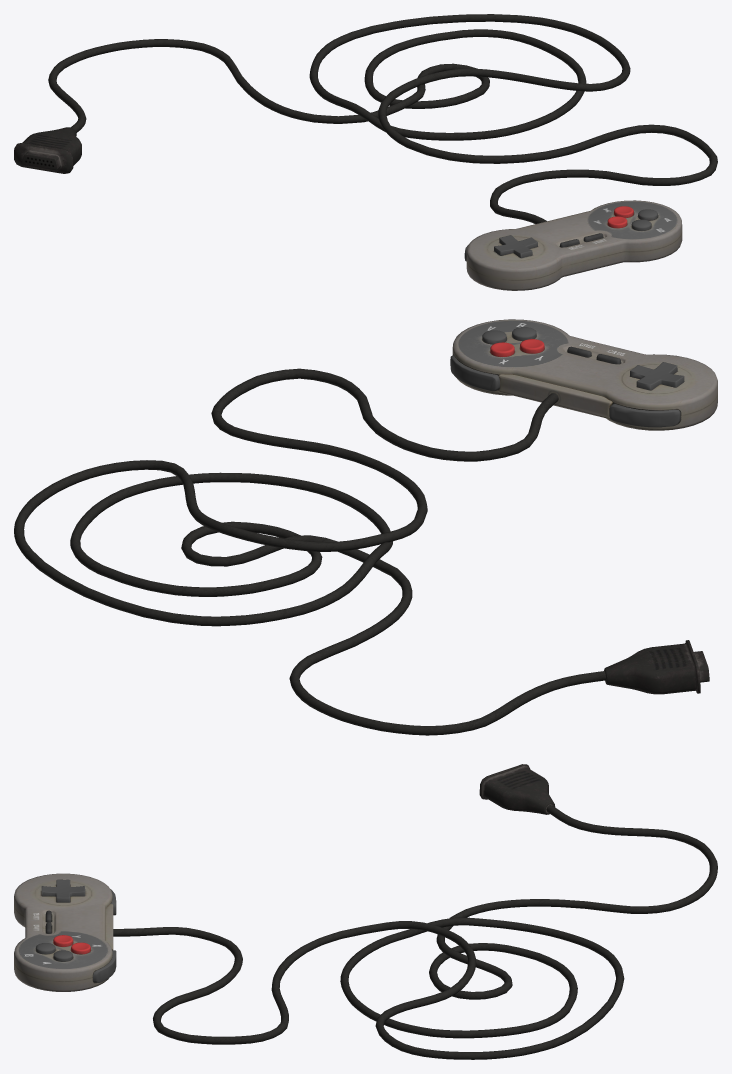
Rendered from gamepad.glb.
3 views of the same model, one above another, from view 1: azimuth 30°, elevation 25°; view 2: azimuth 150°, elevation 25°; view 3: azimuth 270°, elevation 25° (orthographic). The views are drawn at different scales.
Visible parts, largest first — view 1: gamepad__part__gamepad; view 2: gamepad__part__gamepad; view 3: gamepad__part__gamepad.
Boxes of the visible parts, <box> form: gamepad__part__gamepad: <box>14,14,717,290</box>; gamepad__part__gamepad: <box>14,319,717,735</box>; gamepad__part__gamepad: <box>14,764,717,1059</box>.
Bounding box in the file's own units: 0.4041 × 0.0189 × 0.435.
Materials: 1 (1 with a texture image).
